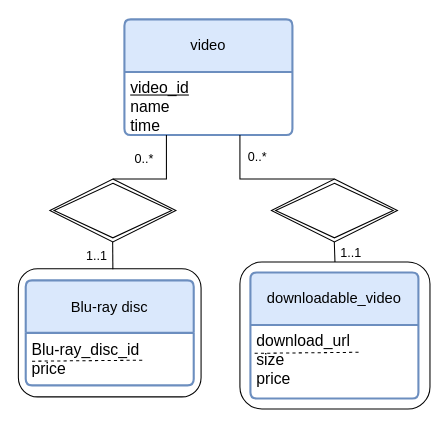
This 448x427 diagram has some shape labels left out. The shapes that lost their labels are listed below. From the top down, each one's box as (x1, y1, x2, y2) in pixels, then its label:
(49, 178, 176, 242): vie_Blu
(270, 178, 397, 242): vie_down
